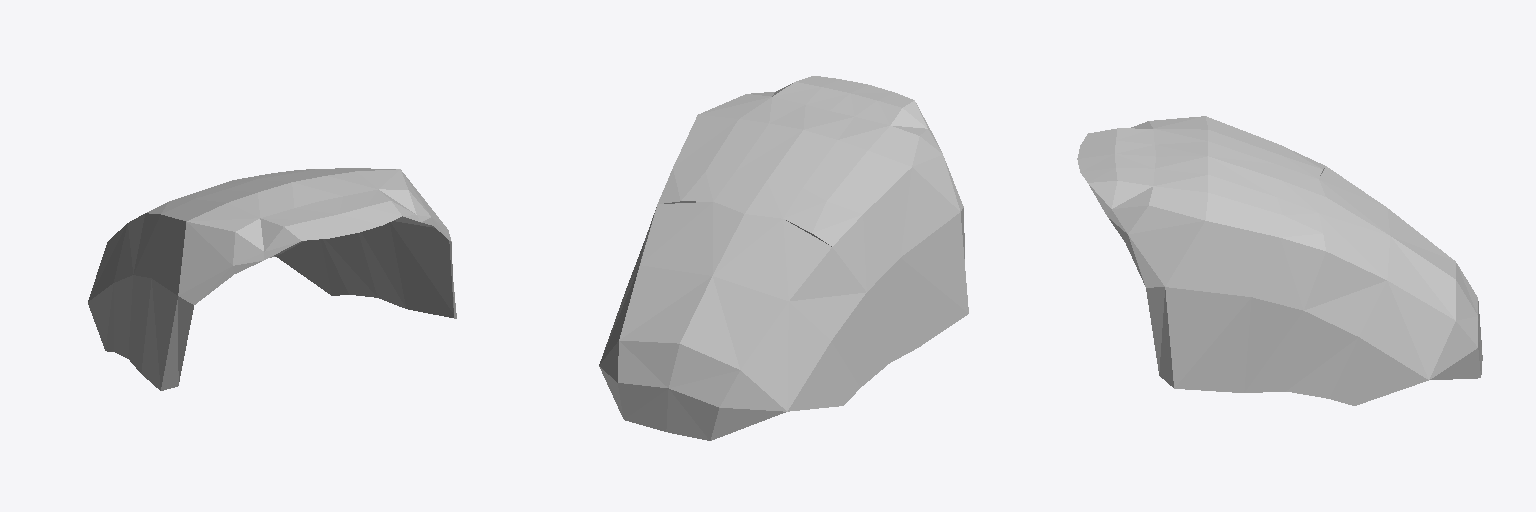
File: X02OwOwatDis.obj
3 renders of one model, left to right at view 1: azimuth 30°, elevation 25°; view 2: azimuth 150°, elevation 25°; view 3: azimuth 270°, elevation 25°, orthographic.
Visible parts, largest first — view 1: CPA; view 2: CPA; view 3: CPA.
Boxes of the visible parts, x1,y1,x2,y2 form: CPA: [88, 168, 456, 390]; CPA: [599, 76, 968, 440]; CPA: [1077, 116, 1482, 405].
Size of the model in its own units: 14.34 by 9.45 by 17.